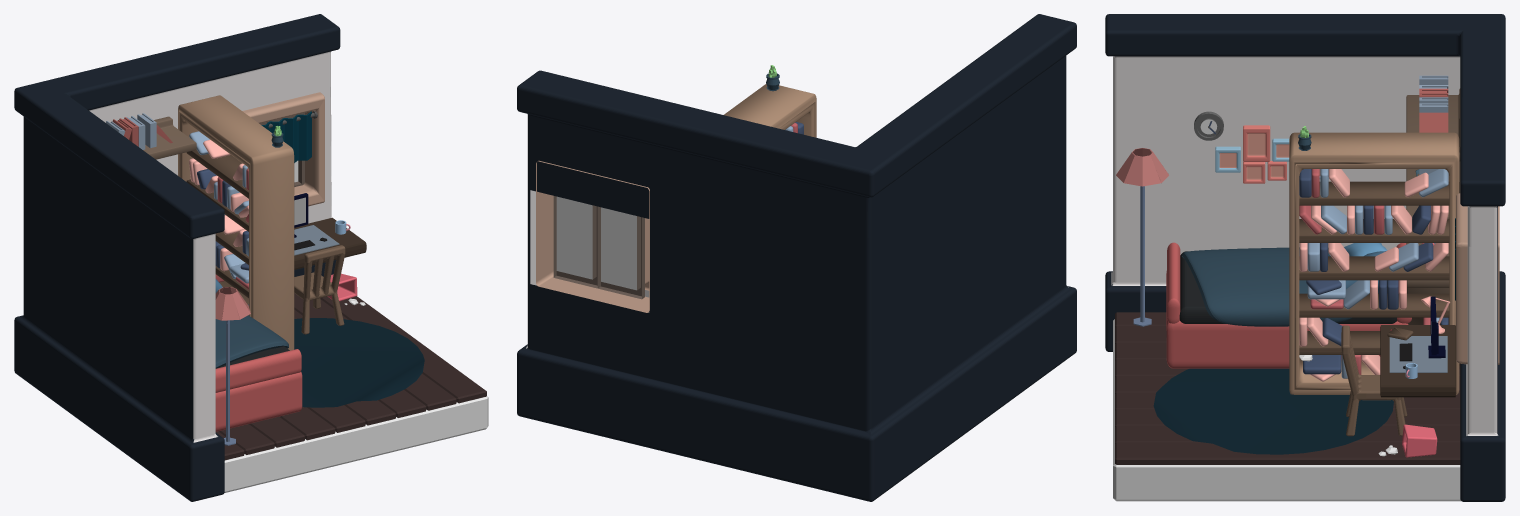
Rendered from Messy_Bedroom.fbx.
3 renders of one model, left to right at view 1: azimuth 30°, elevation 25°; view 2: azimuth 150°, elevation 25°; view 3: azimuth 270°, elevation 25°, orthographic. The views are drawn at different scales.
Visible parts, largest first — view 1: walls, bookshelf, room base, rug.001, base, bed, my books, window, chair, planks, blanket, big lamp (+4 smaller); view 2: walls, windows.001, window, bookshelf; view 3: walls, room base, rug.001, my books, base, bookshelf, planks, blanket, bed, desk, frames, window (+9 smaller).
Part boxes in pixels (x1,y1,x2,y2): walls: (14,14,340,501); bookshelf: (178,95,294,350); room base: (215,293,486,460); rug.001: (294,318,424,407); base: (224,396,488,492); bed: (215,349,302,431); my books: (189,131,248,315); window: (242,92,324,206); chair: (294,245,345,334); planks: (186,149,248,304); blanket: (215,315,288,368); big lamp: (215,287,250,445); walls: (517,14,1076,501); windows.001: (553,196,644,299); window: (536,160,649,312); bookshelf: (724,84,816,137); walls: (1105,14,1505,501); room base: (1115,312,1460,464); rug.001: (1153,368,1393,454); my books: (1299,169,1448,381); base: (1113,319,1461,501); bookshelf: (1289,132,1459,394); planks: (1299,181,1449,354); blanket: (1182,247,1352,326); bed: (1166,242,1408,368); desk: (1380,325,1456,397); frames: (1215,125,1289,183); window: (1456,193,1499,364).
Size of the model in its own units: 226 by 202 by 226.
